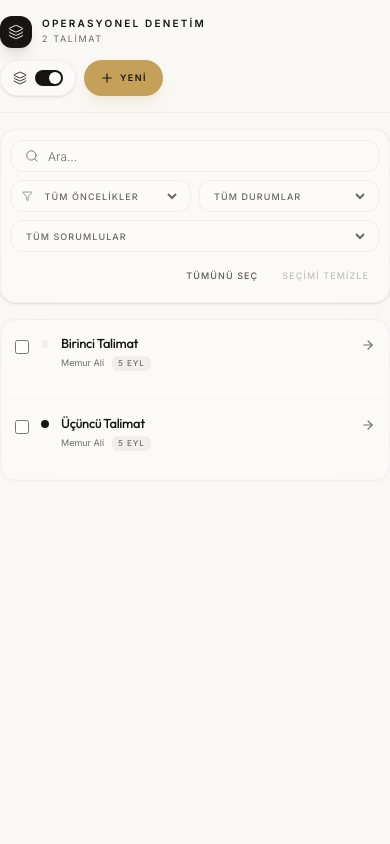
Scenario: TaskBoard — toplu seçim ve toplu işlem (P2-18) › seçili görevler KARIŞIK durumdaysa toplu durum değişikliği devre dışı bırakılır ve nedeni belirtilir
The width and height of the screenshot is (390, 844).
Step 1. Click the checkbox named "Birinci Talimat seçilmedi" → (22, 347), box [15, 340, 29, 354]
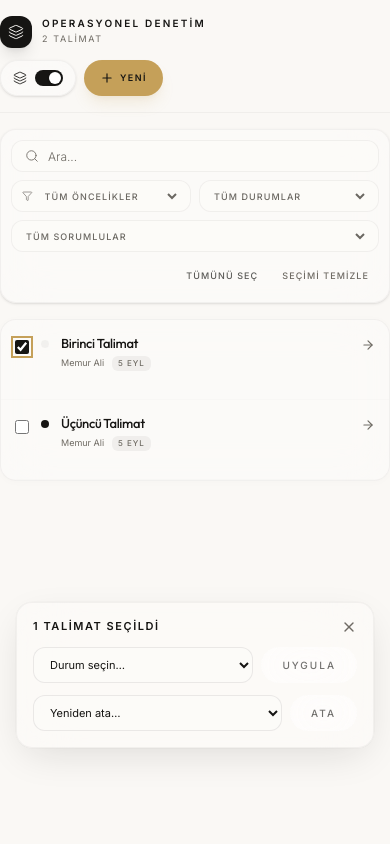
Step 2. Click the checkbox named "Üçüncü Talimat seçilmedi" → (22, 427), box [15, 420, 29, 434]
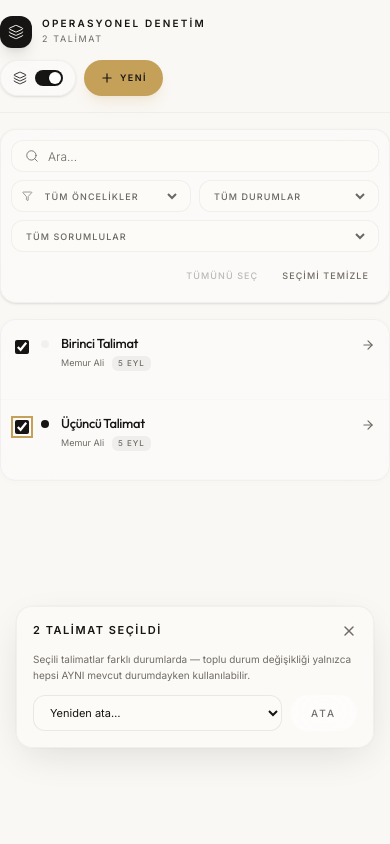
Expected: the text "farklı durumlarda" is shown, [33, 652, 351, 681]
